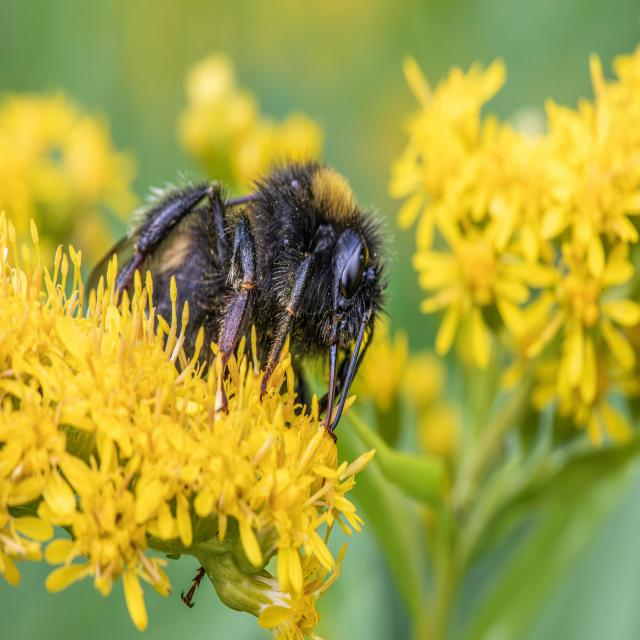bee: (84, 139, 397, 440)
